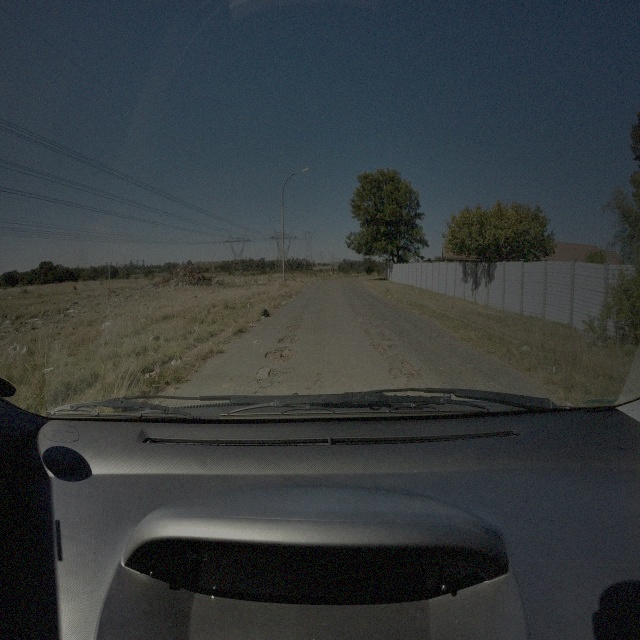pothole: (264, 347, 297, 362), (402, 356, 419, 379), (276, 334, 298, 344), (389, 364, 402, 378), (374, 340, 384, 354), (285, 322, 300, 331), (266, 368, 277, 377)
